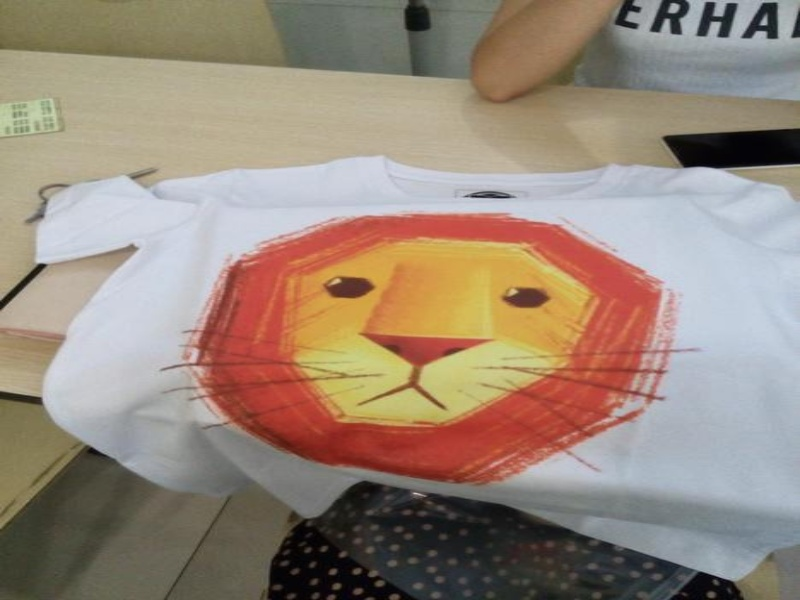short_sleeved_shirt: (32, 156, 798, 585)
